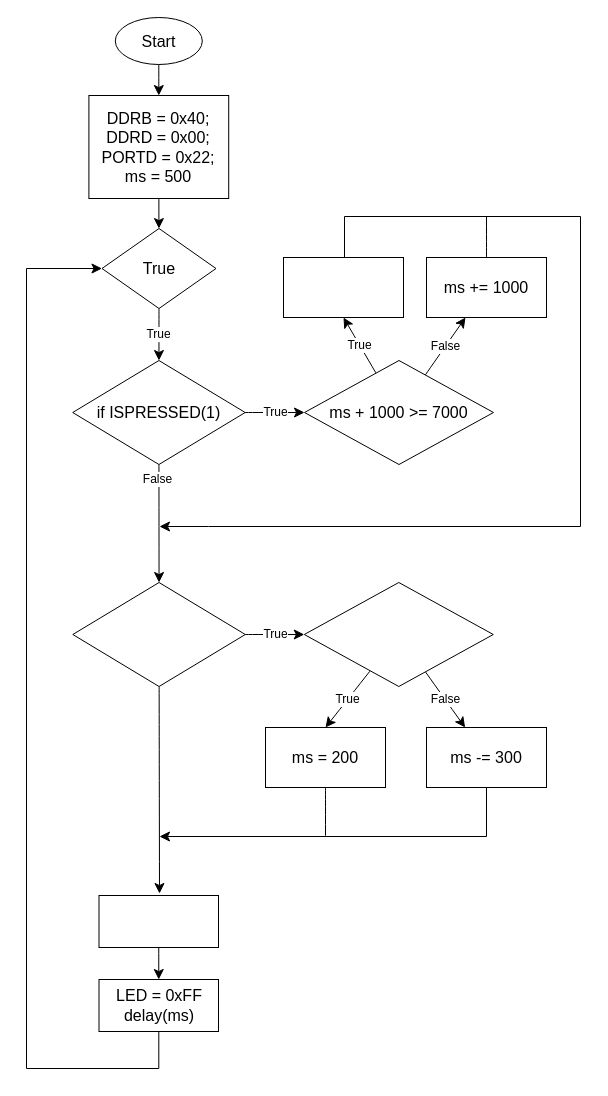
Some shapes in this 608 by 1096 pixel diagram are drawn without their labels. The shapes that lost their labels are listed below. From the top down, each one's box as (x1, y1, x2, y2) in pixels, then its label:
(282, 256, 404, 318): ms = 7000
(72, 582, 245, 686): if ISPRESSED(5)
(303, 582, 493, 686): ms - 300 <= 200
(98, 894, 218, 948): LED = 0xBF delay(ms)
